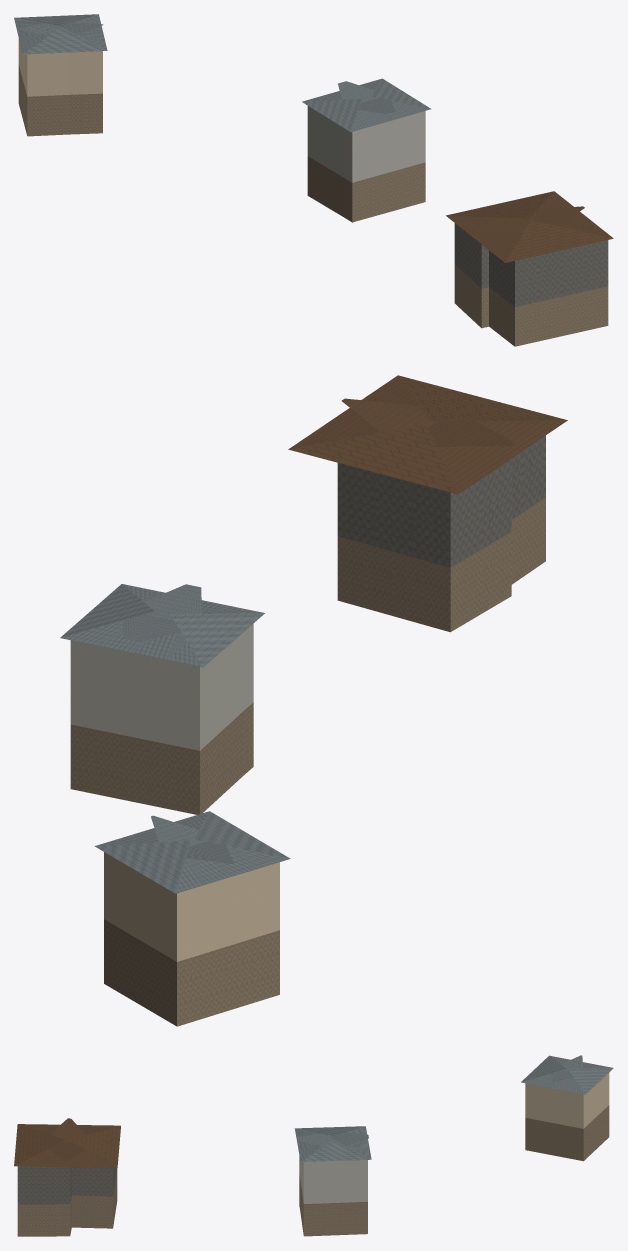
Rendered from bld_c10_27_400.gltf.
3 views of the same model, one above another, from view 1: azimuth 30°, elevation 25°; view 2: azimuth 150°, elevation 25°; view 3: azimuth 270°, elevation 25° (orthographic). The views are drawn at different scales.
Parts seen in each view (by area): view 1: bld_c10_27_400; view 2: bld_c10_27_400; view 3: bld_c10_27_400.
Part boxes in pixels (x1=…): bld_c10_27_400: x1=14, y1=14, x2=613, y2=346; bld_c10_27_400: x1=60, y1=375, x2=567, y2=1026; bld_c10_27_400: x1=14, y1=1055, x2=613, y2=1236.
Size of the model in its own units: 35.85 by 13.7 by 85.76.
Materials: 6 (6 with a texture image).
